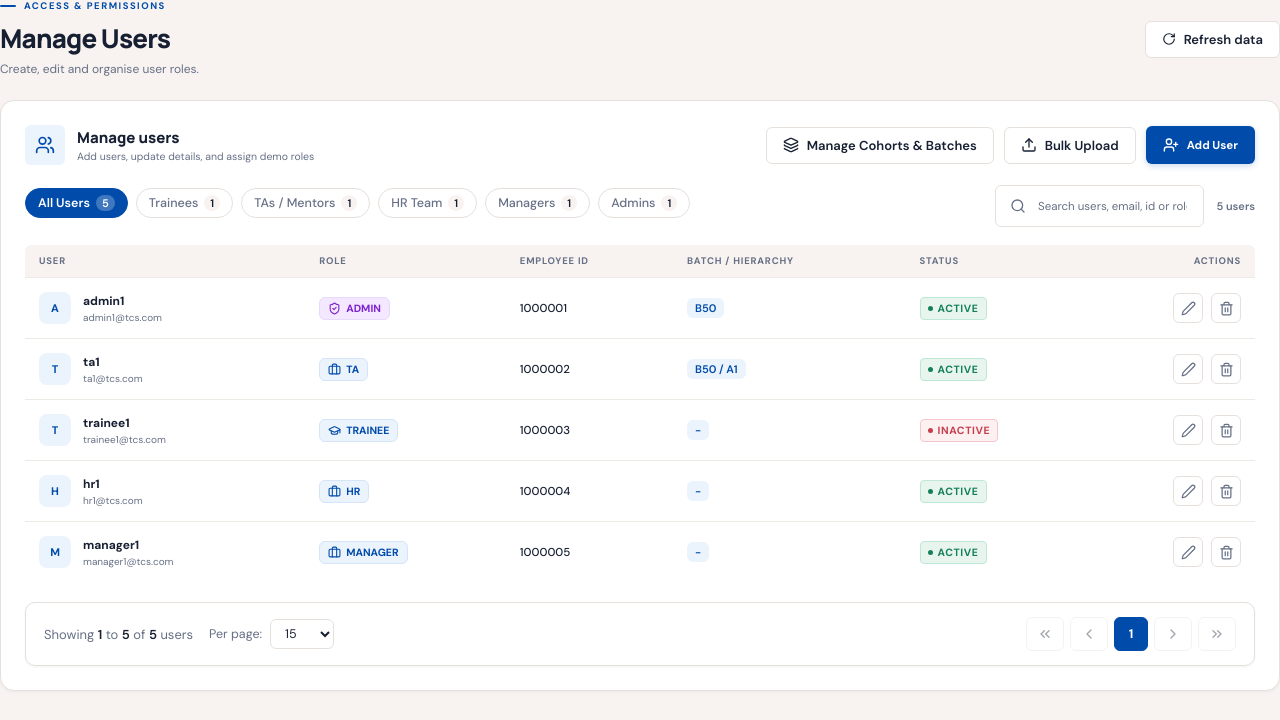
ManageUsers page › confirms deletion and removes the user from the table
Expected: the text "ta1" is shown, [83, 354, 100, 370]
Click the button named "Delete ta1" at (1226, 369), box [1211, 354, 1241, 384]
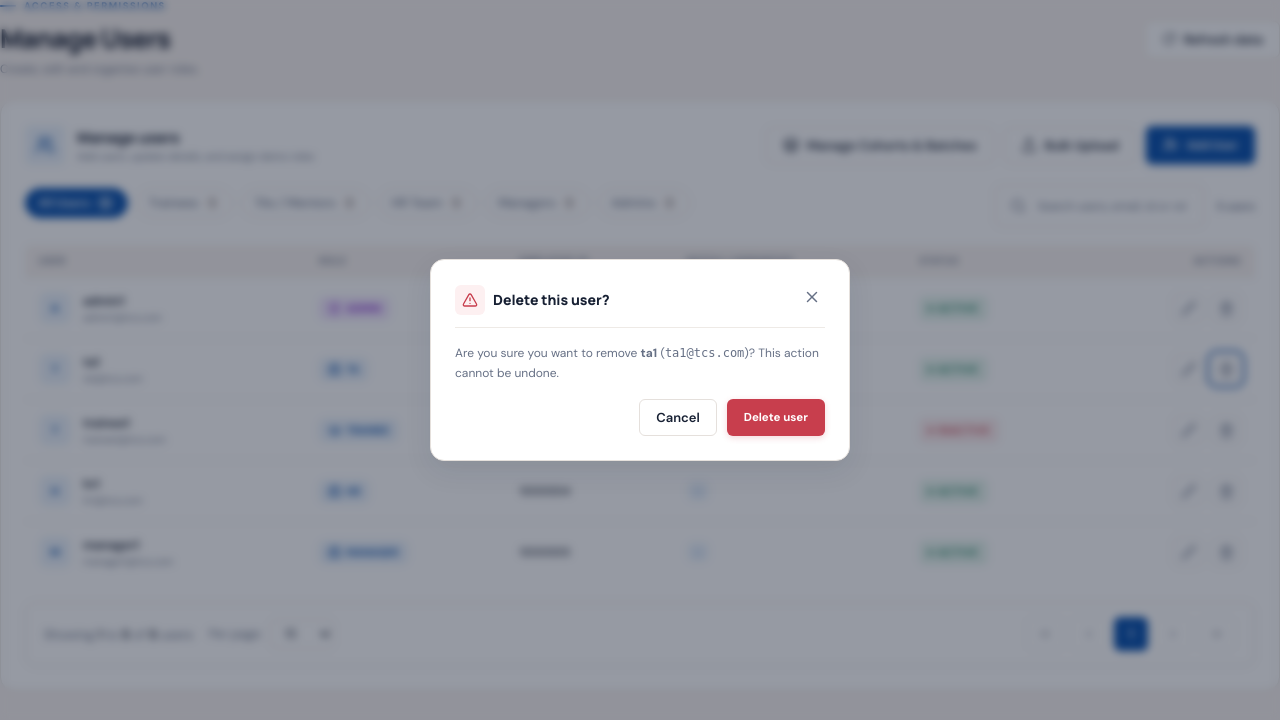
Expected: the heading "Delete this user?" is shown, [493, 290, 610, 309]
Click the button "Delete user" at (776, 417), box [727, 399, 825, 436]
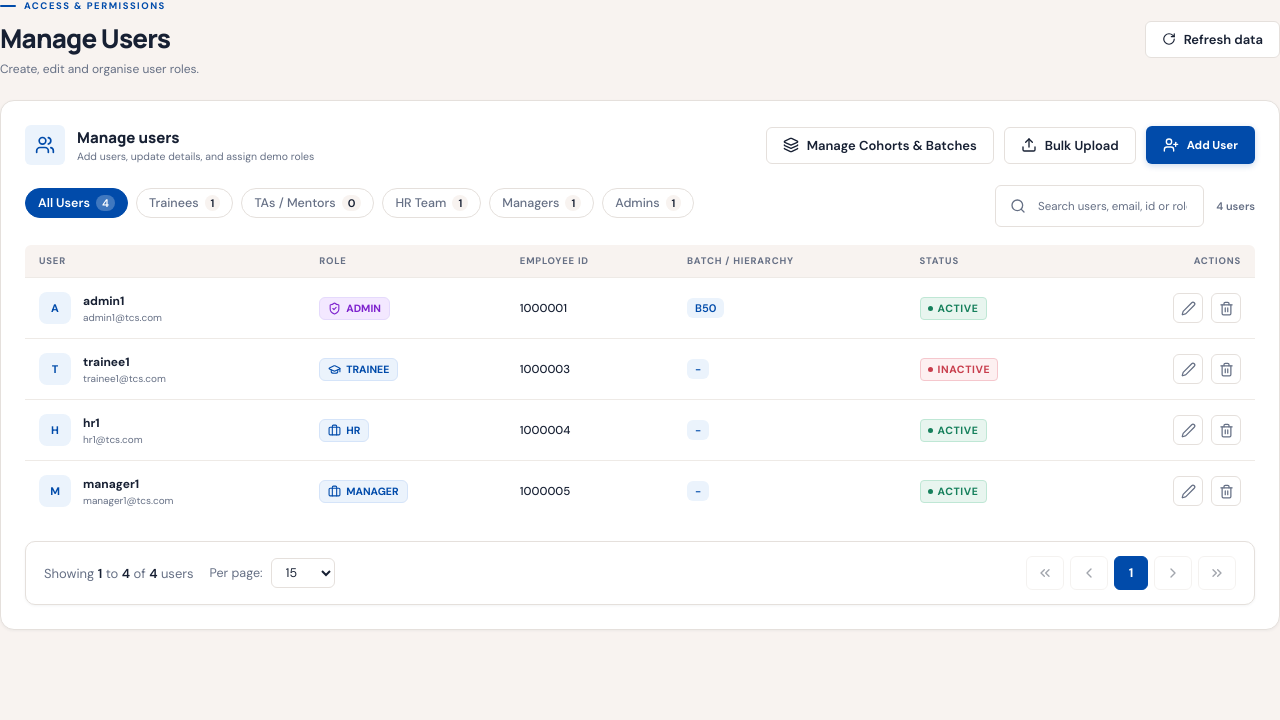
Expected: the text "ta1" is gone
